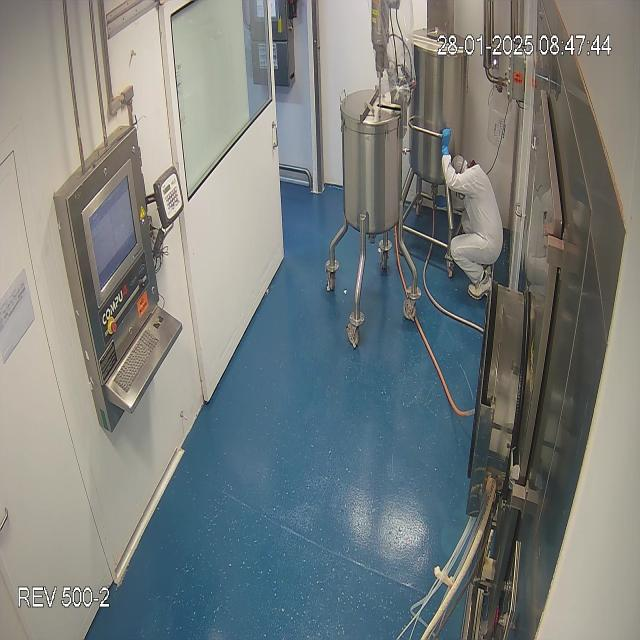bota: (458, 268, 497, 303)
pessoa: (436, 147, 510, 300)
touca: (450, 150, 472, 177)
